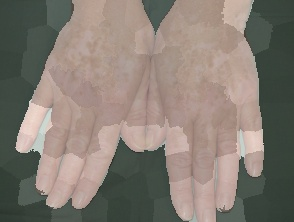vitiligo: (1, 0, 175, 222), (146, 0, 267, 222)
